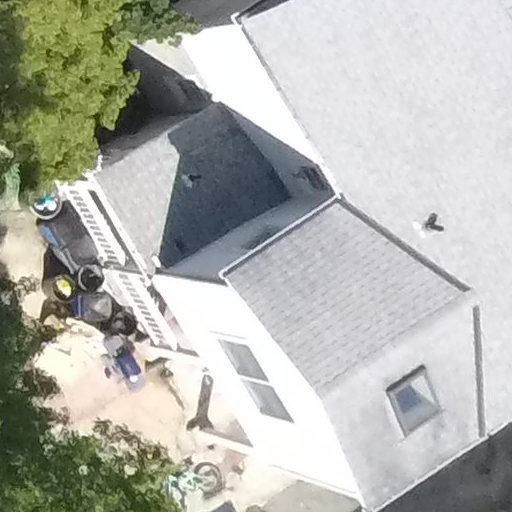container: (38, 263, 81, 305), (70, 259, 106, 292), (109, 303, 139, 340)
garbage bin: (37, 270, 78, 303), (69, 263, 109, 291)
